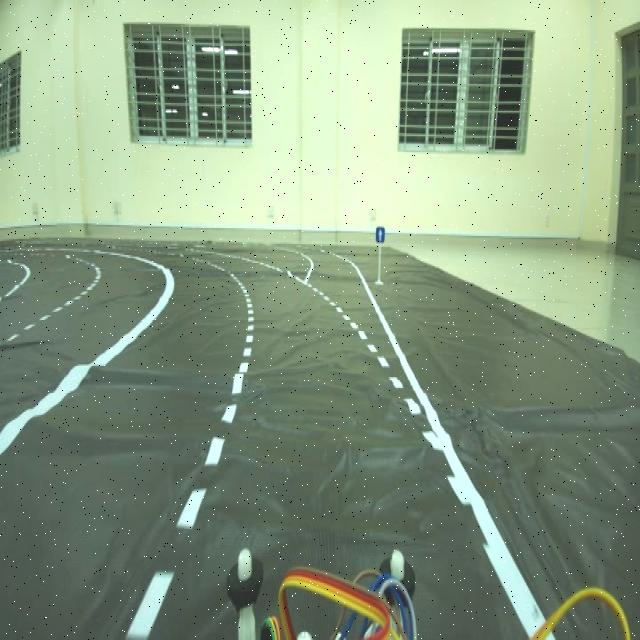onewayroad: (374, 220, 390, 246)
